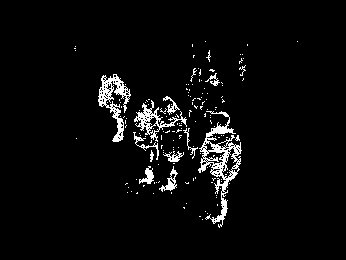person: (203, 110, 241, 230), (161, 93, 187, 192), (135, 96, 162, 187), (99, 73, 131, 142)
